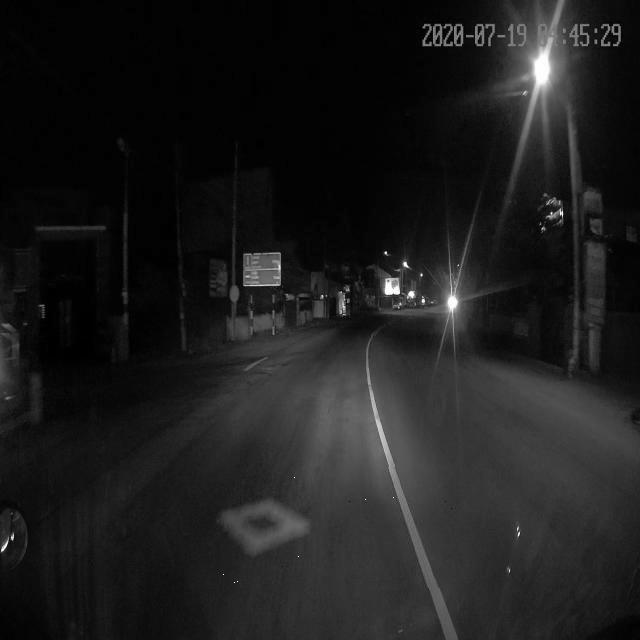diamond: (90, 467, 453, 588)
